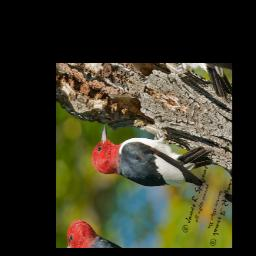Woodpecker: (87, 95, 218, 219)
